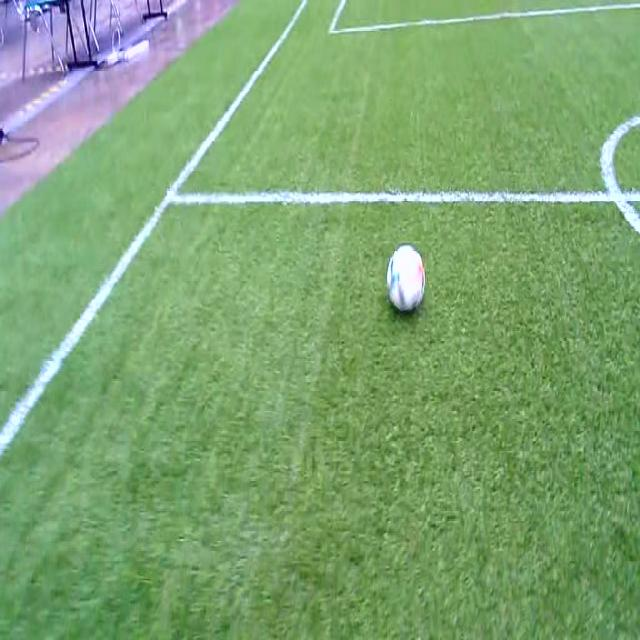ball: (386, 245, 425, 312)
